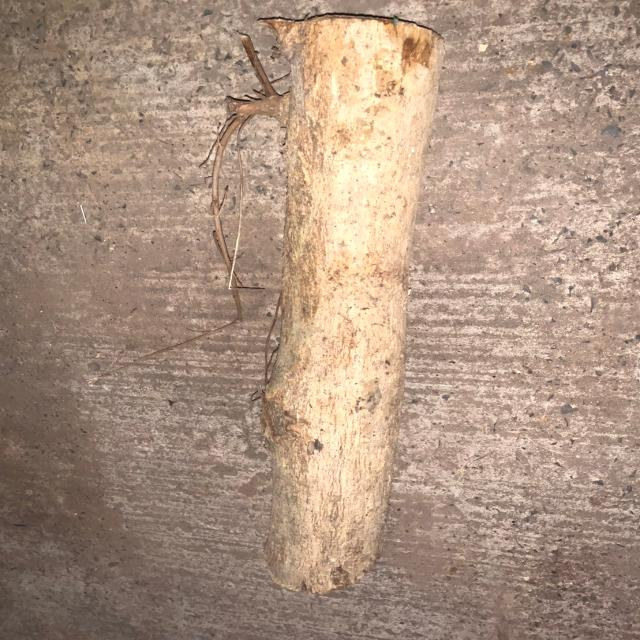Infectious: (251, 12, 447, 594)
Sharps: (202, 32, 292, 290)
